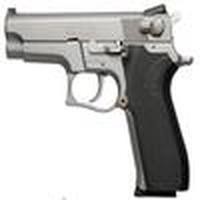gun: (2, 4, 198, 200)
